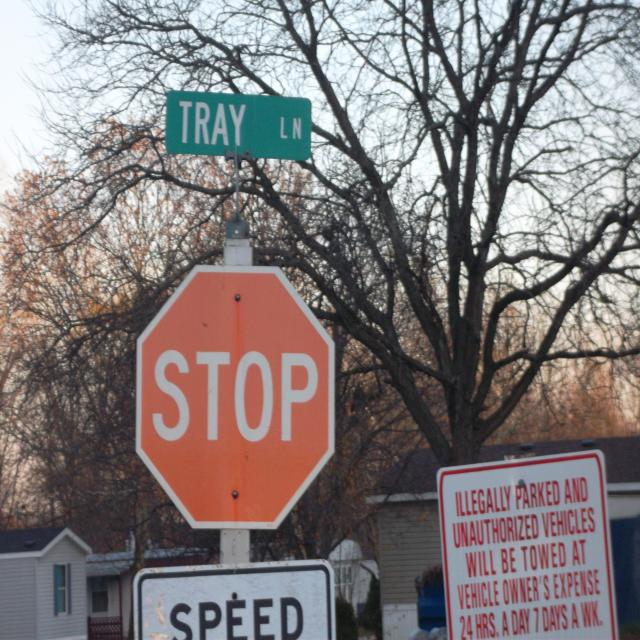regulatory: (436, 441, 616, 640), (130, 556, 337, 640)
stop: (129, 263, 339, 527)
